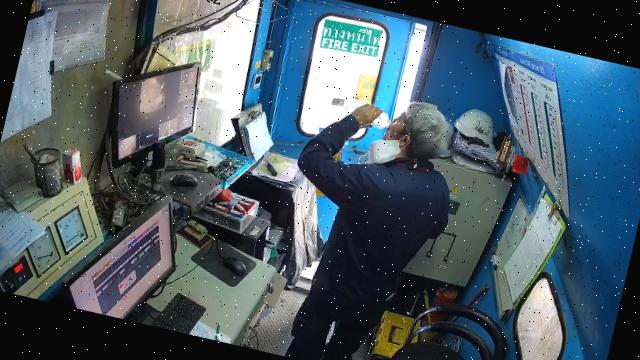Head: (383, 103, 452, 160)
People: (293, 106, 453, 359)
